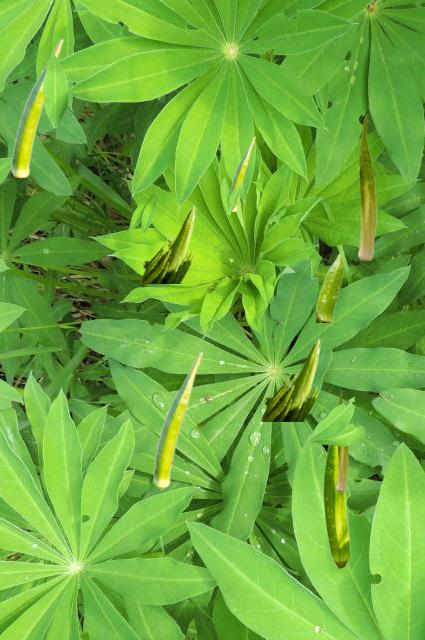okra: (11, 38, 62, 176), (153, 351, 202, 489), (260, 338, 321, 420), (139, 205, 196, 282), (323, 446, 350, 568), (358, 114, 375, 259), (230, 136, 254, 210), (316, 253, 342, 321), (336, 390, 347, 490)
